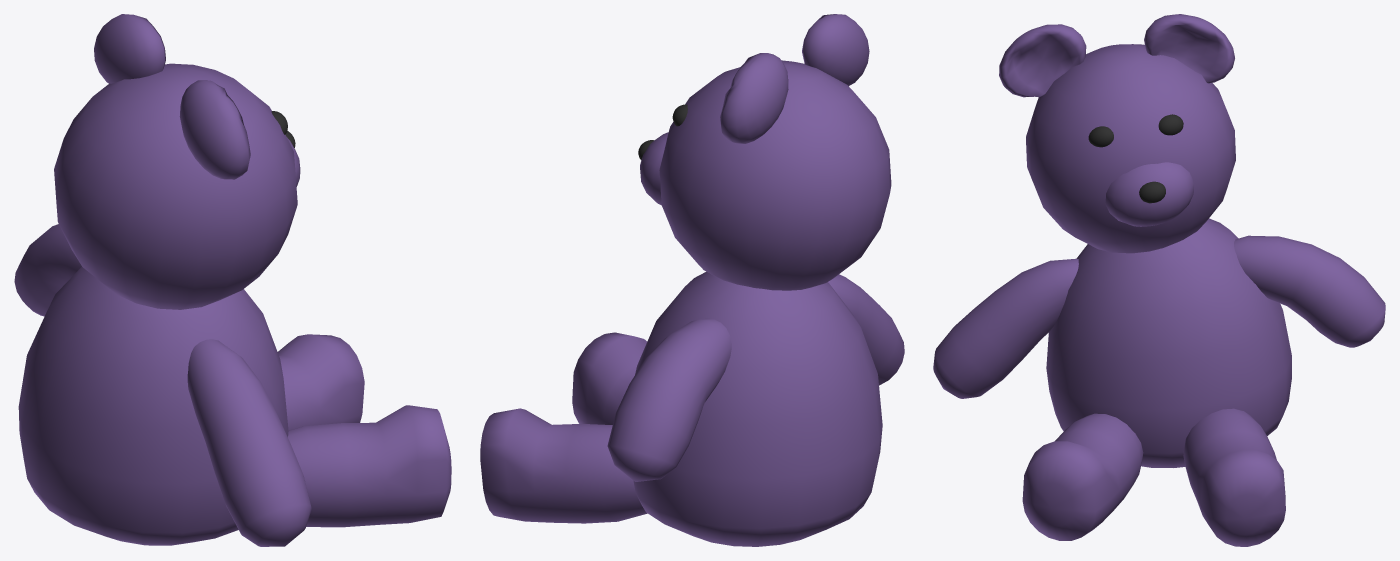
File: teddy.fbx
3 views of the same model, side by side, from view 1: azimuth 30°, elevation 25°; view 2: azimuth 150°, elevation 25°; view 3: azimuth 270°, elevation 25° (orthographic). The views are drawn at different scales.
Parts seen in each view (by area): view 1: pSphere13; view 2: pSphere13; view 3: pSphere13.
Part boxes in pixels (box(x1,y1,x2,y2)): pSphere13: box(14, 14, 451, 546); pSphere13: box(480, 14, 904, 546); pSphere13: box(933, 14, 1385, 546).
Bounding box in the file's own units: 2.1 × 2.88 × 2.71.
